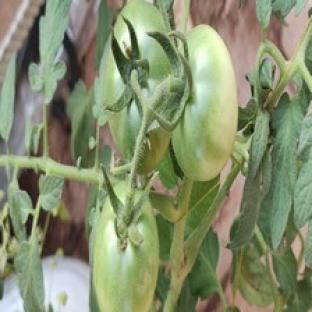Tomato: (173, 26, 238, 181), (92, 200, 158, 311)
